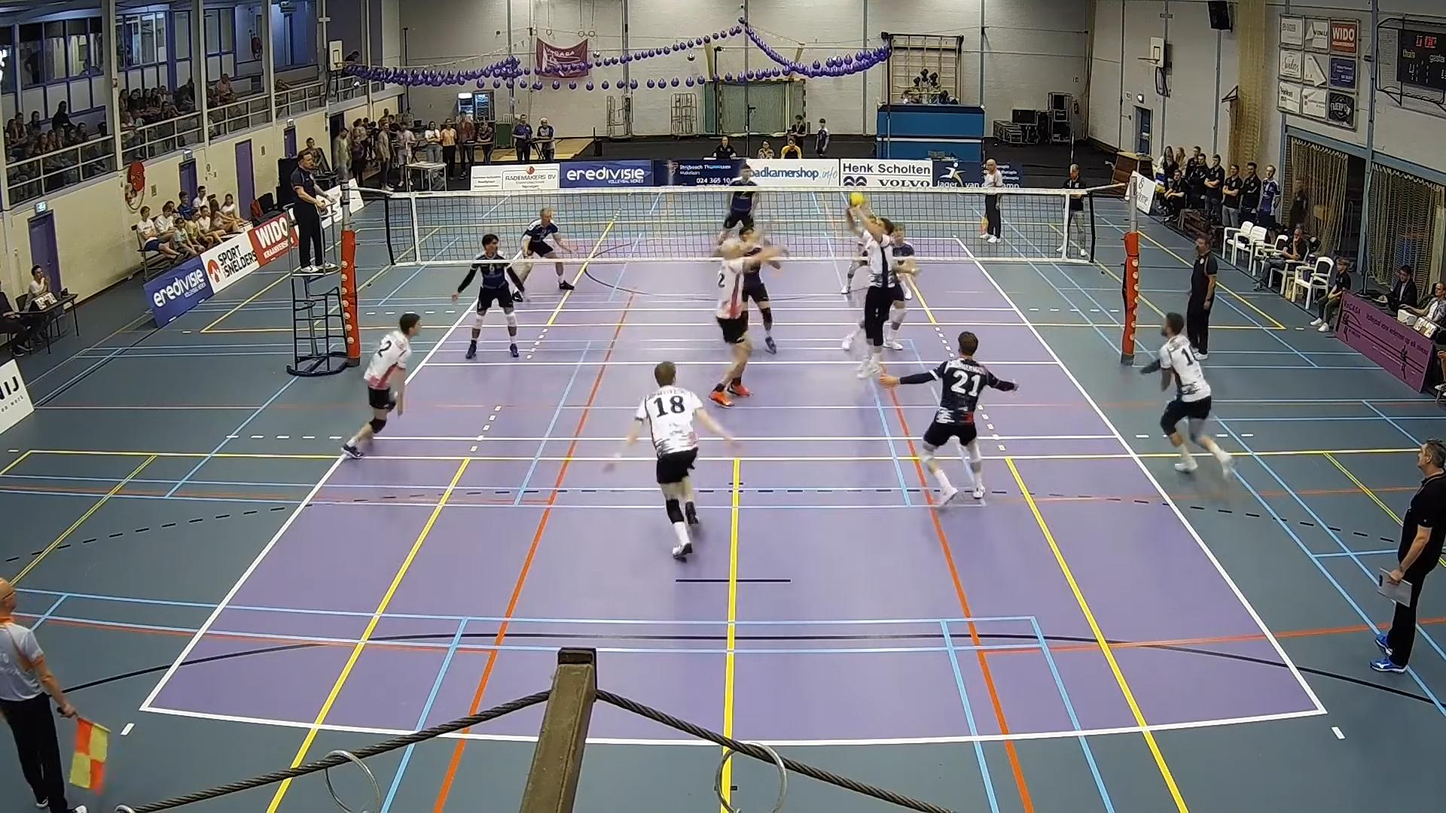alzata: (836, 203, 905, 386)
